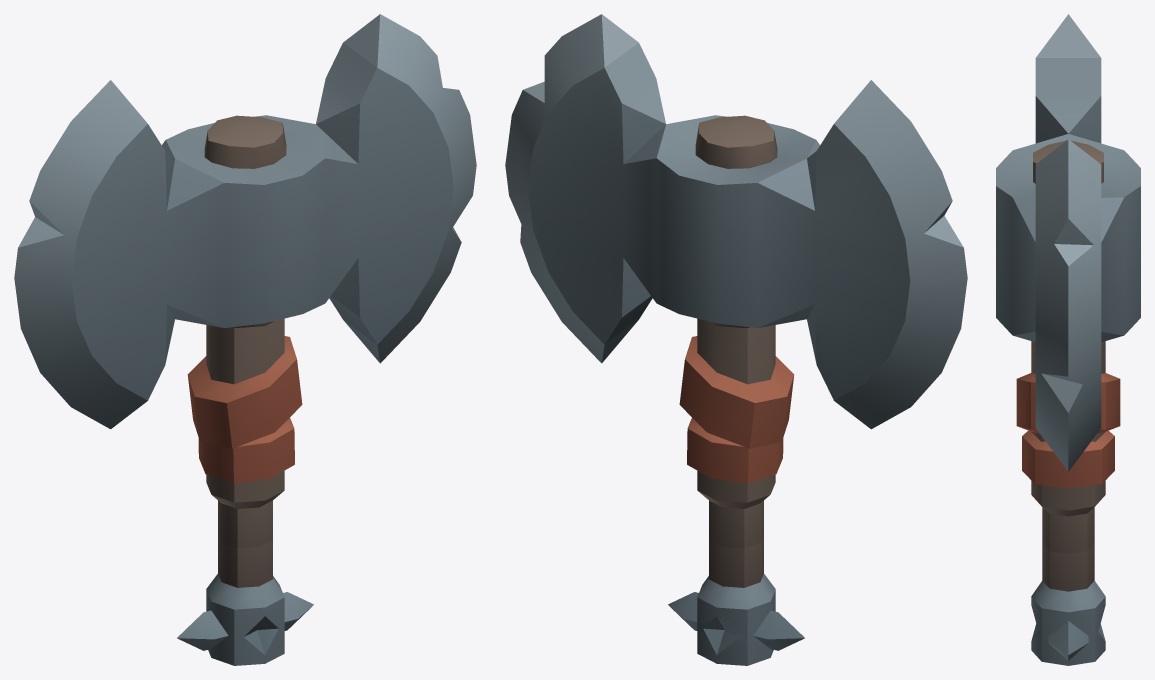
Rendered from Skeleton_Axe.glb.
3 views of the same model, side by side, from view 1: azimuth 30°, elevation 25°; view 2: azimuth 150°, elevation 25°; view 3: azimuth 270°, elevation 25° (orthographic). The views are drawn at different scales.
Parts seen in each view (by area): view 1: Skeleton_Axe; view 2: Skeleton_Axe; view 3: Skeleton_Axe.
Part boxes in pixels (x1=…): Skeleton_Axe: x1=14, y1=14, x2=476, y2=665; Skeleton_Axe: x1=505, y1=14, x2=967, y2=665; Skeleton_Axe: x1=996, y1=14, x2=1140, y2=665.
Size of the model in its own units: 0.9886 by 1.25 by 0.2819.
1 material, 1 textured.
